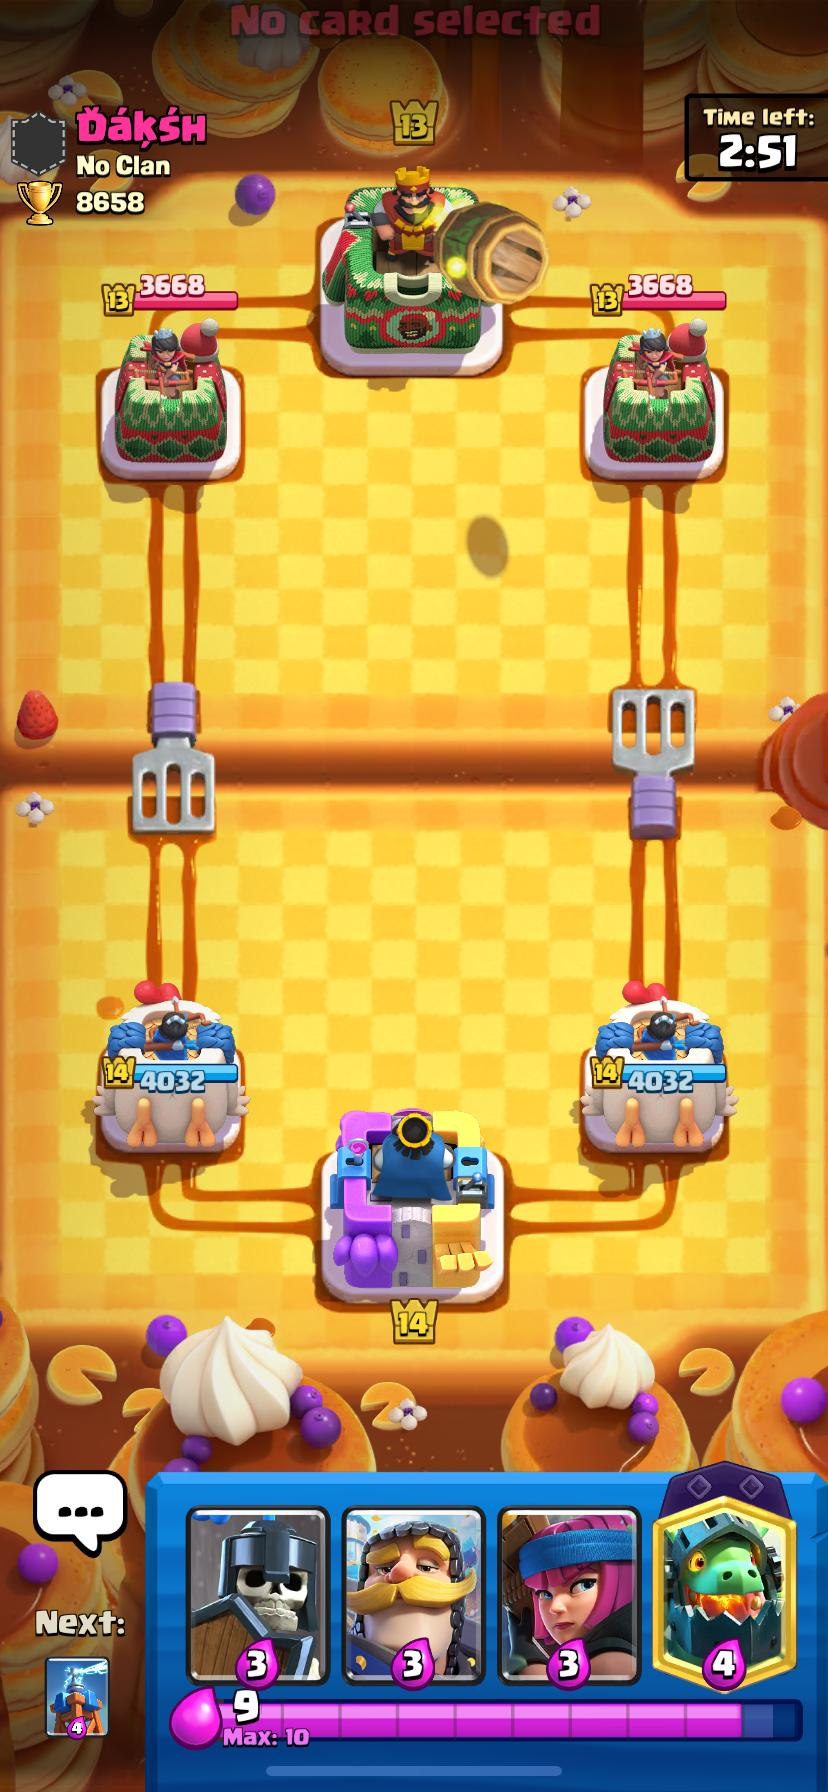EGoblinBarrel: (433, 202, 546, 303)
EKingTower: (323, 167, 480, 351)
EnemyPrincessTower: (101, 318, 241, 480), (602, 318, 723, 477)
OwnKingTower: (321, 1109, 503, 1303)
OwnPrincessTower: (581, 982, 735, 1154), (93, 983, 248, 1151)
